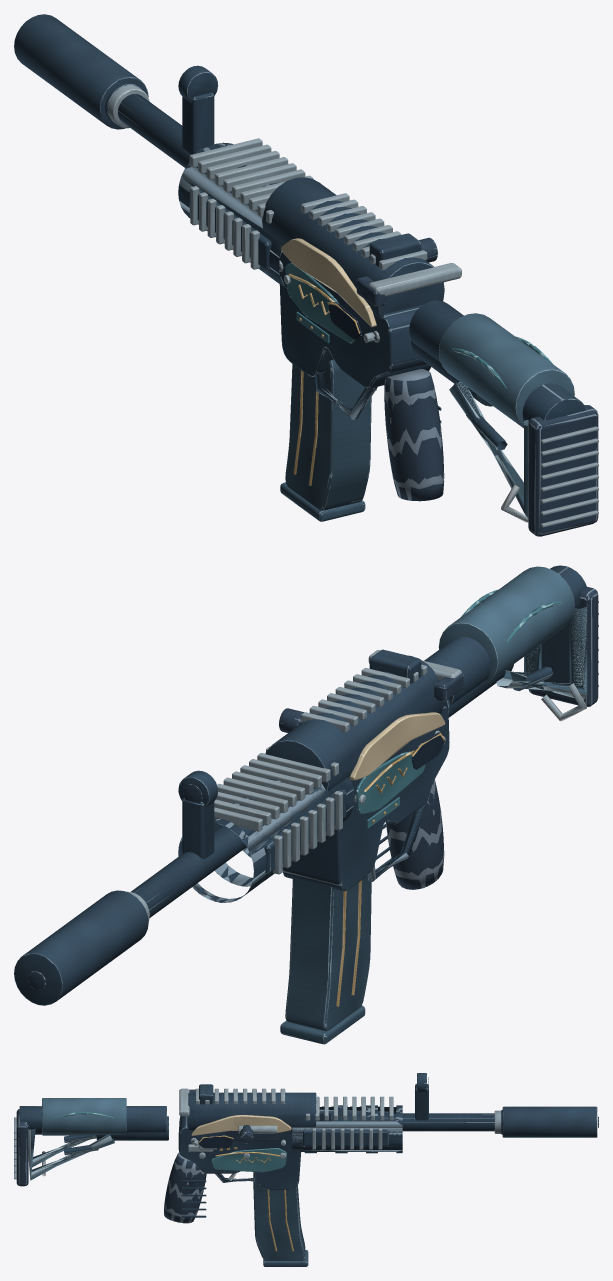
The model's file is anime-m4a1.glb.
The picture shows the model from 3 angles, top to bottom: view 1: azimuth 30°, elevation 25°; view 2: azimuth 150°, elevation 25°; view 3: azimuth 270°, elevation 25°; orthographic projection. The views are drawn at different scales.
Parts seen in each view (by area): view 1: weapon_Weapon finish / Parkerized steel, weapon_Parkerized steel, weapon_Machined edges, weapon_Polymer, magazine_Magazine satin alloy, weapon_Weapon finish / Polymer, World hardware, World paint, weapon_Inset blue ceramic, weapon_Weapon finish / Ivory enamel; view 2: weapon_Weapon finish / Parkerized steel, weapon_Parkerized steel, weapon_Machined edges, magazine_Magazine satin alloy, weapon_Weapon finish / Polymer, weapon_Polymer, World hardware, World paint, weapon_Inset blue ceramic, weapon_Weapon finish / Ivory enamel, weapon_Recessed graphite mechanism; view 3: weapon_Weapon finish / Parkerized steel, weapon_Parkerized steel, weapon_Weapon finish / Polymer, weapon_Machined edges, magazine_Magazine satin alloy, weapon_Polymer, World paint, World hardware, weapon_Inset blue ceramic, weapon_Weapon finish / Ivory enamel, weapon_Recessed graphite mechanism, magazine_Etched brass detail.
Part boxes in pixels (x1,y1,x2,y2): weapon_Weapon finish / Parkerized steel: (178, 142, 586, 420); weapon_Parkerized steel: (14, 14, 507, 450); weapon_Machined edges: (107, 85, 598, 527); weapon_Polymer: (105, 82, 598, 536); magazine_Magazine satin alloy: (280, 359, 371, 521); weapon_Weapon finish / Polymer: (439, 313, 574, 518); World hardware: (14, 14, 598, 536); World paint: (179, 143, 586, 508); weapon_Inset blue ceramic: (285, 263, 552, 390); weapon_Weapon finish / Ivory enamel: (281, 238, 376, 327); weapon_Weapon finish / Parkerized steel: (178, 565, 586, 902); weapon_Parkerized steel: (14, 649, 552, 1005); weapon_Machined edges: (126, 601, 598, 920); magazine_Magazine satin alloy: (280, 876, 371, 1044); weapon_Weapon finish / Polymer: (439, 566, 587, 697); weapon_Polymer: (28, 587, 598, 989); World hardware: (14, 589, 598, 1043); World paint: (179, 565, 587, 902); weapon_Inset blue ceramic: (356, 590, 562, 828); weapon_Weapon finish / Ivory enamel: (350, 712, 445, 780); weapon_Recessed graphite mechanism: (411, 732, 444, 769); weapon_Weapon finish / Parkerized steel: (19, 1092, 402, 1189); weapon_Parkerized steel: (64, 1073, 597, 1217); weapon_Weapon finish / Polymer: (30, 1098, 126, 1180); weapon_Machined edges: (14, 1088, 500, 1179); magazine_Magazine satin alloy: (253, 1172, 308, 1266); weapon_Polymer: (16, 1078, 598, 1223); World paint: (19, 1093, 402, 1189); World hardware: (16, 1073, 598, 1266); weapon_Inset blue ceramic: (54, 1112, 286, 1172); weapon_Weapon finish / Ivory enamel: (191, 1115, 291, 1135); weapon_Recessed graphite mechanism: (198, 1135, 233, 1148); magazine_Etched brass detail: (267, 1189, 293, 1251).
Size of the model in its own units: 0.1352 by 0.372 by 1.05.
12 materials, 10 textured.
